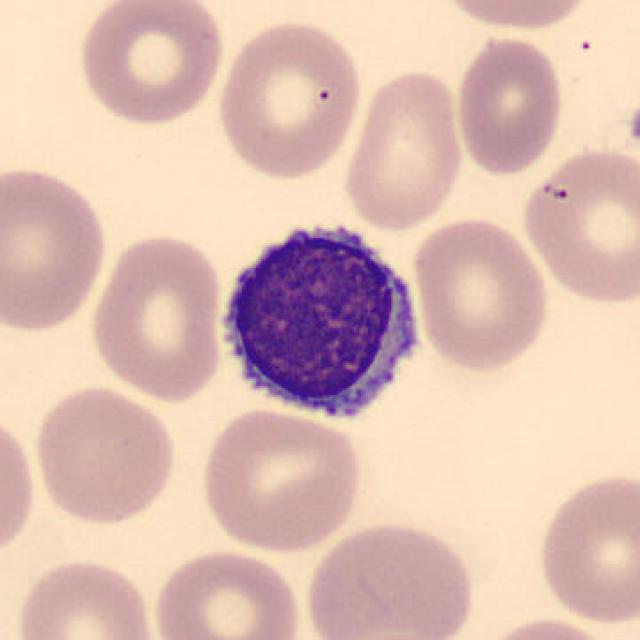Lymphocyte: (206, 208, 432, 434)
RBC: (196, 404, 366, 555), (214, 14, 366, 182), (87, 229, 228, 406), (409, 212, 553, 374), (29, 381, 180, 527), (300, 518, 480, 640), (342, 67, 468, 234), (73, 0, 227, 129), (519, 143, 638, 307), (0, 162, 110, 335), (532, 467, 638, 628), (452, 32, 567, 178), (149, 545, 304, 640), (10, 553, 161, 640), (0, 407, 39, 564), (431, 0, 597, 35), (471, 613, 627, 640)
